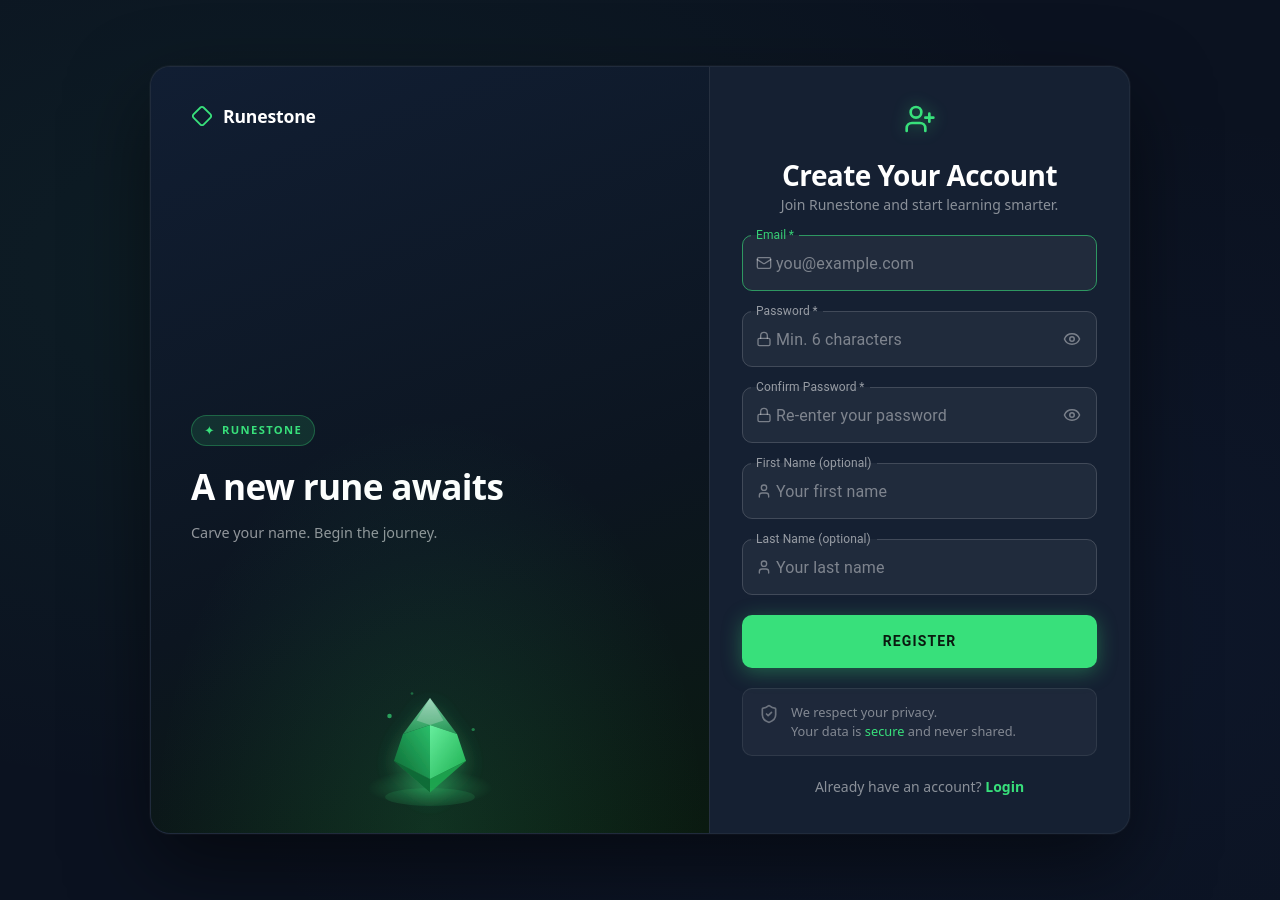
Register Component › Form Validation › should show error when password is too short
In the field labelled "Email *": (936, 263) [776,235,1097,291], type "test@example.com"
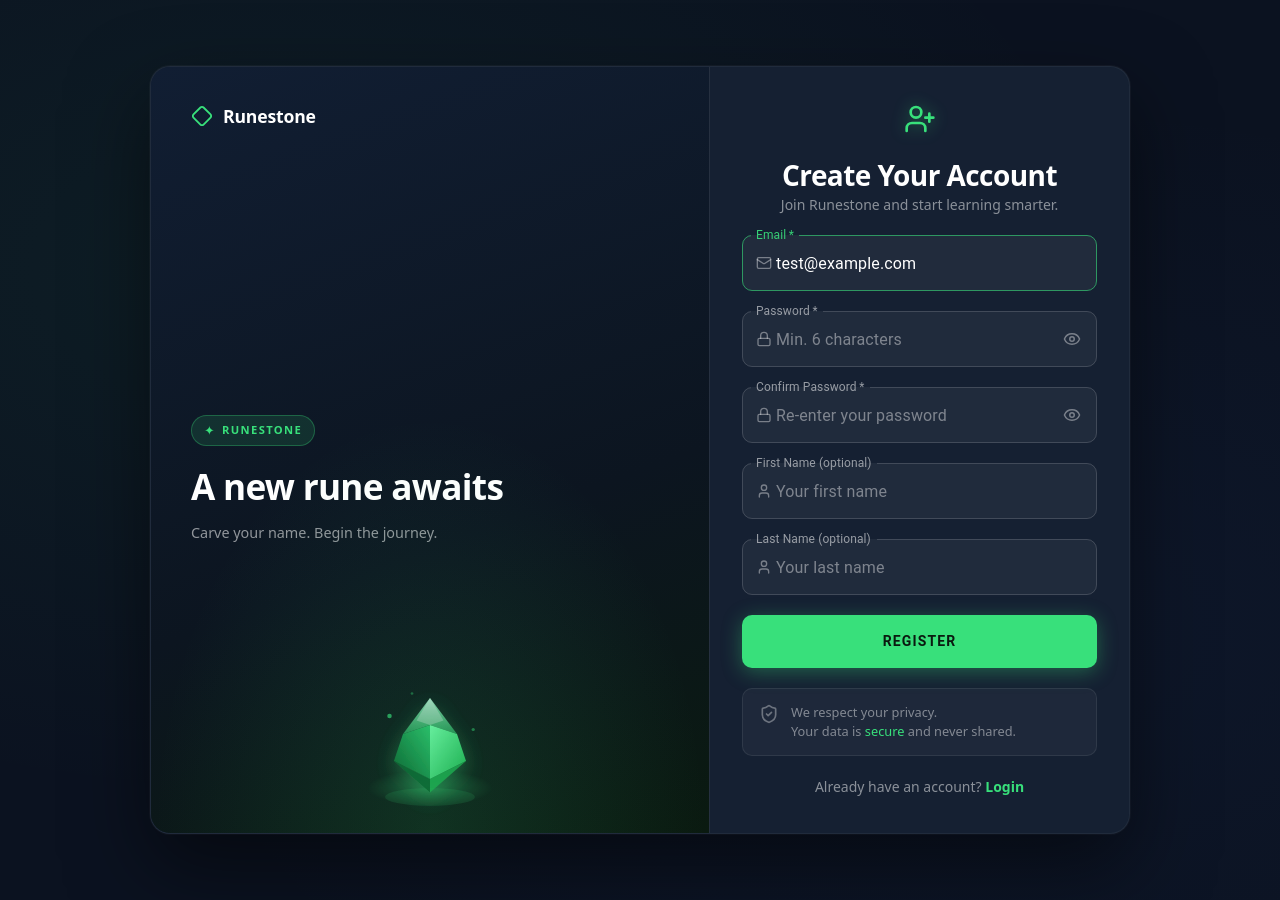
In the password field labelled "Password *": (913, 339) [776,311,1050,367], type "123"
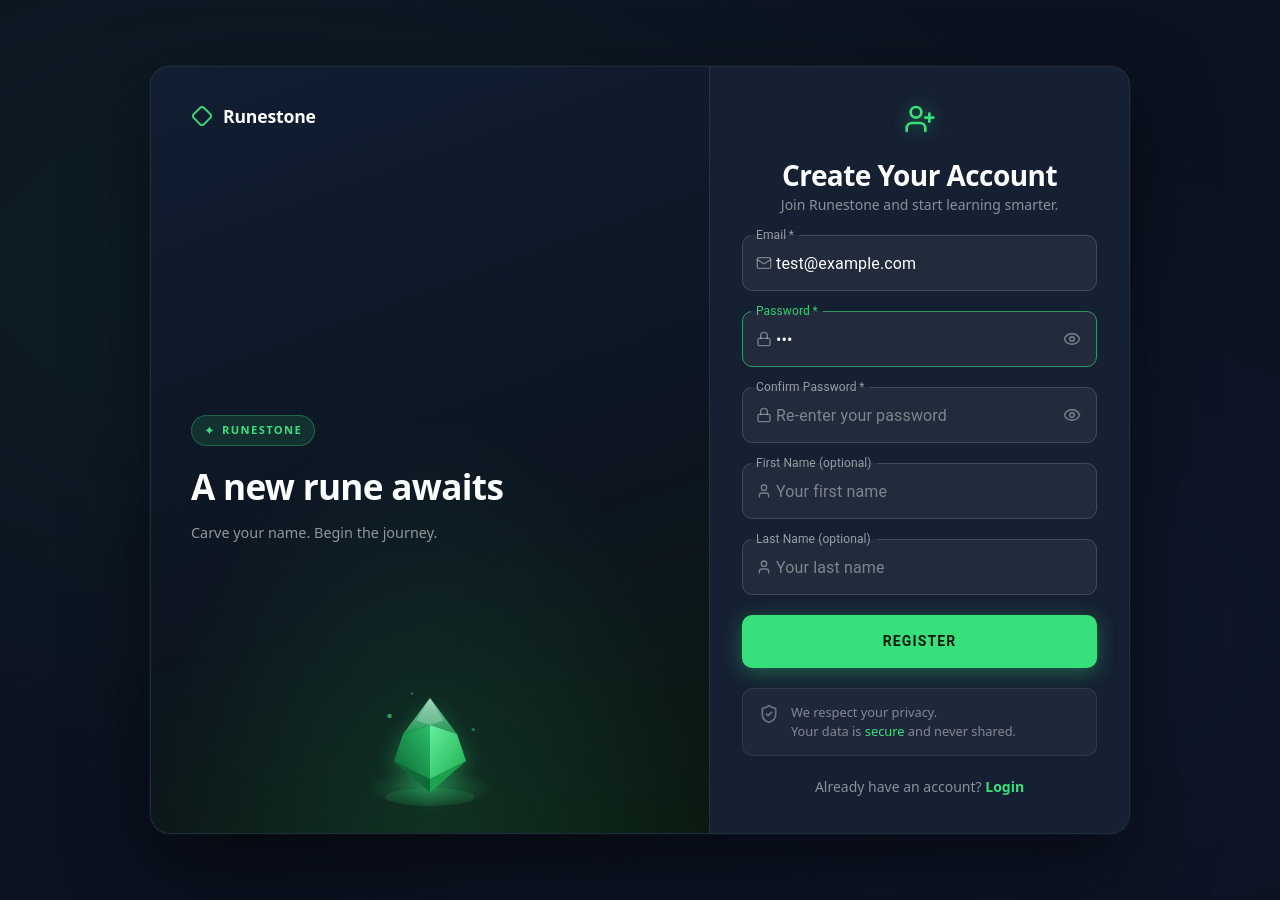
In the password field labelled "Confirm Password *": (913, 415) [776,387,1050,443], type "123"
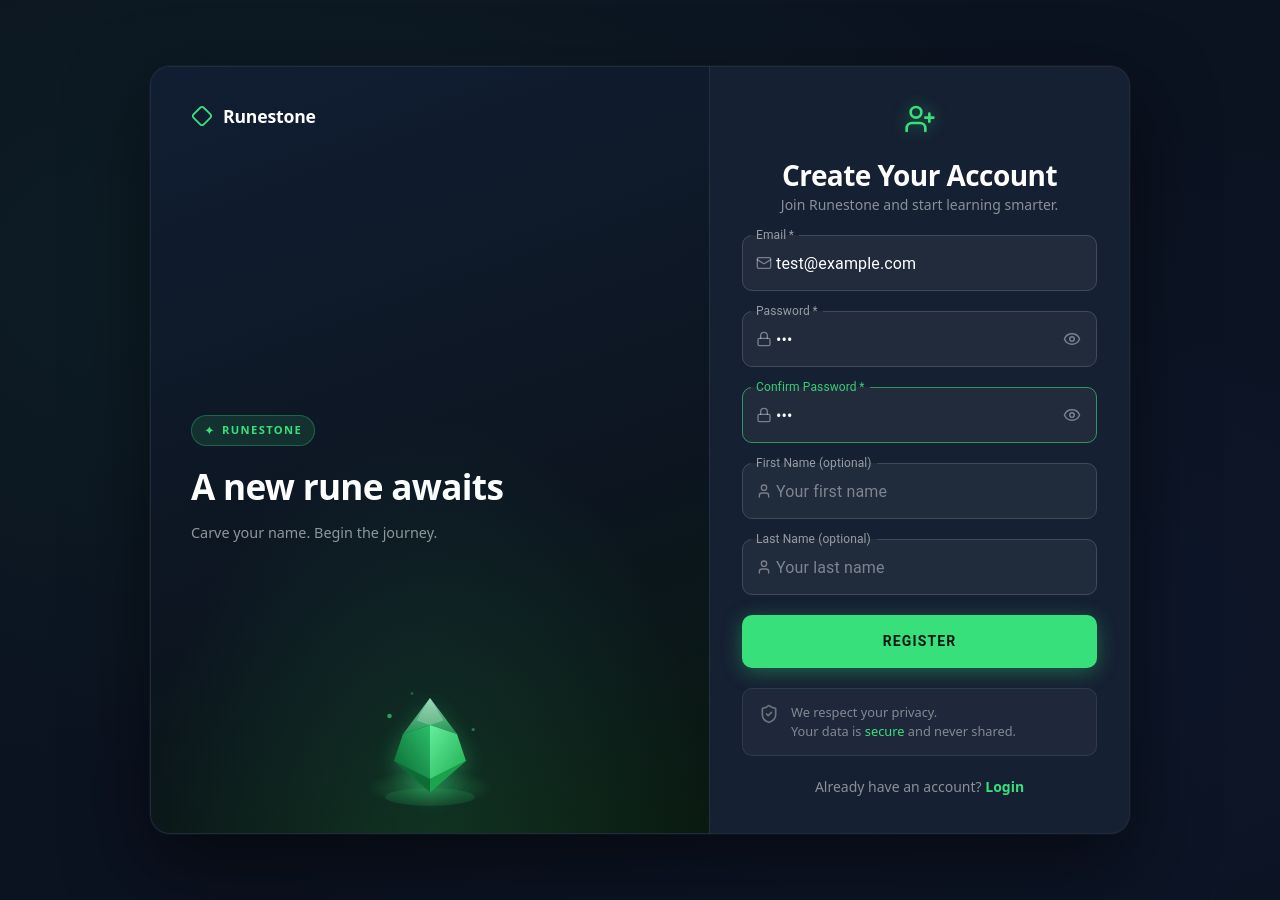
Click the button "Register": (920, 642) [742,615,1097,668]
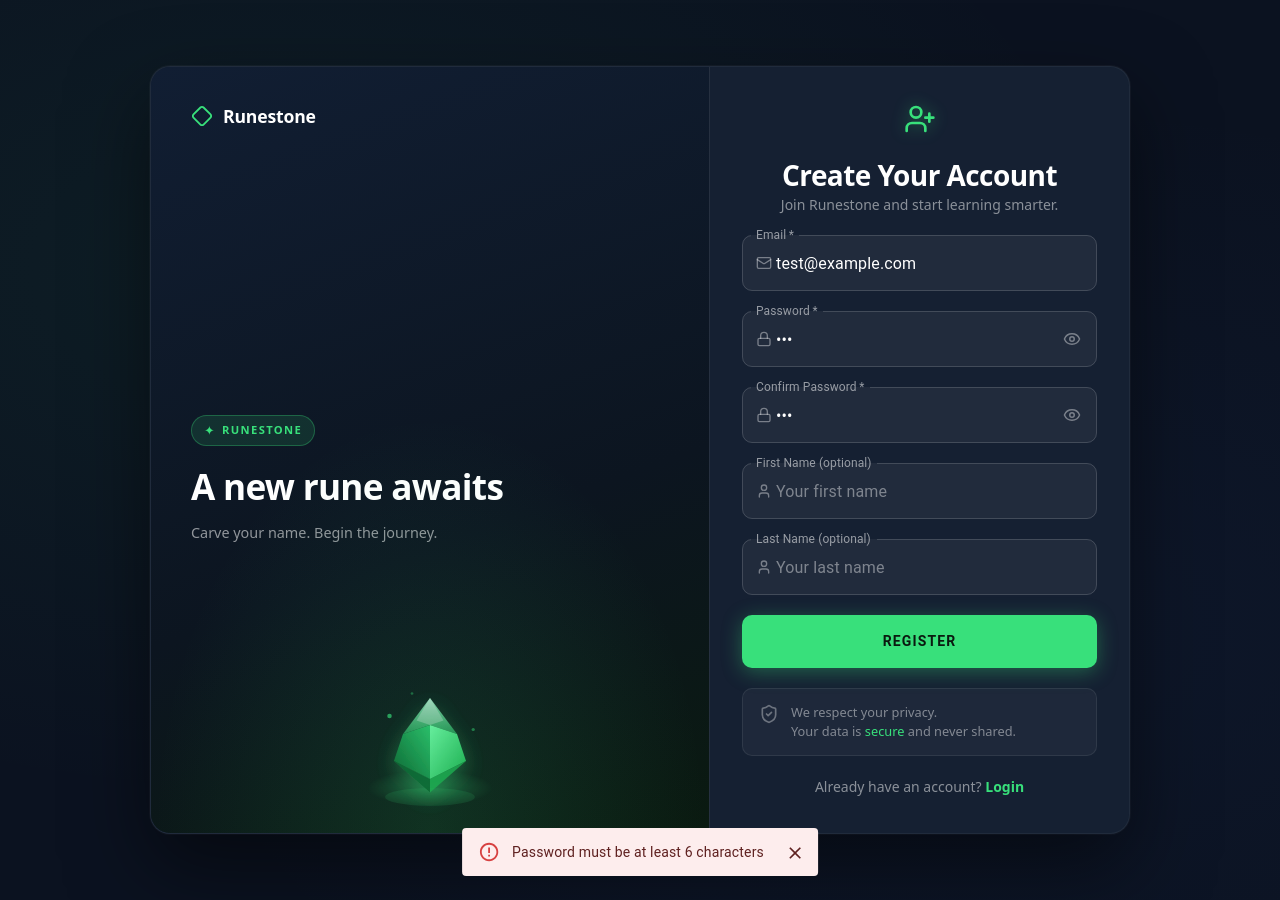
Check: the text "Password must be at least 6 characters" is shown, box [512,844,764,860]
